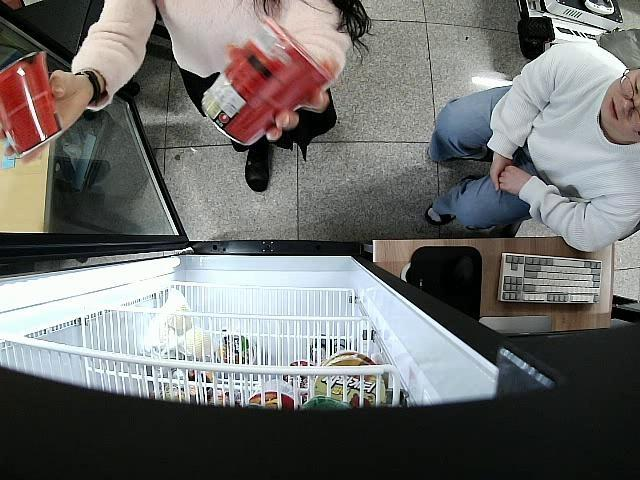02_shinRamen_S: (202, 16, 335, 147), (0, 48, 63, 156)
